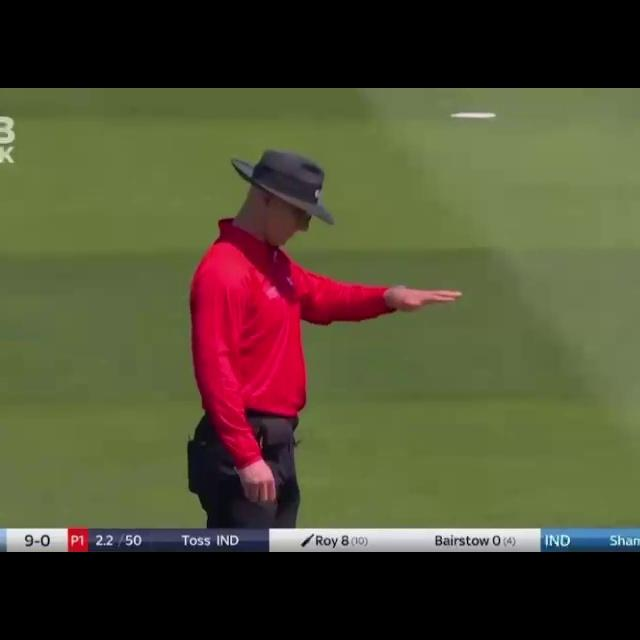umpire: (165, 137, 470, 534)
